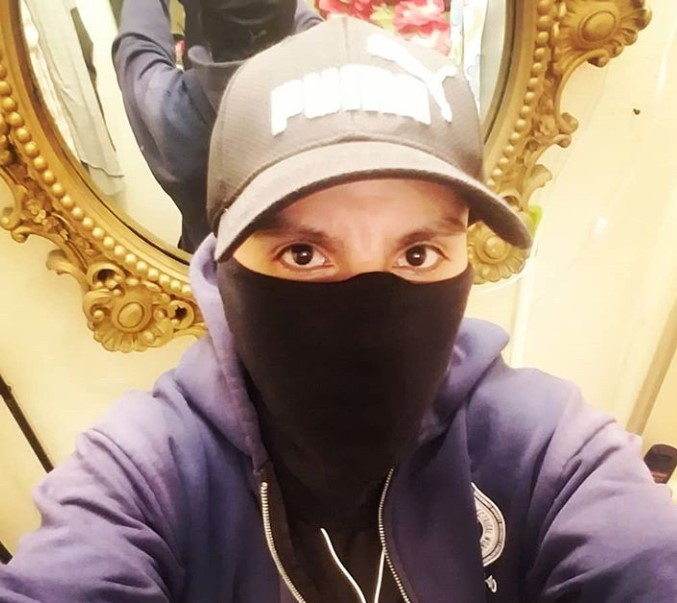face_with_mask: (213, 17, 528, 458)
